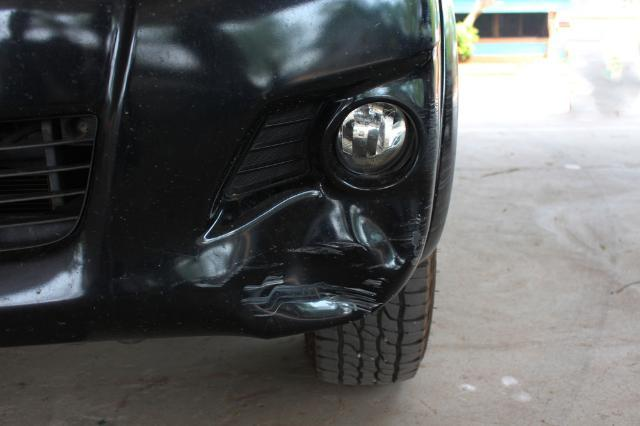dent: (248, 184, 410, 323)
scratch: (423, 92, 458, 194), (402, 205, 430, 265), (238, 281, 275, 320), (194, 265, 244, 289)
